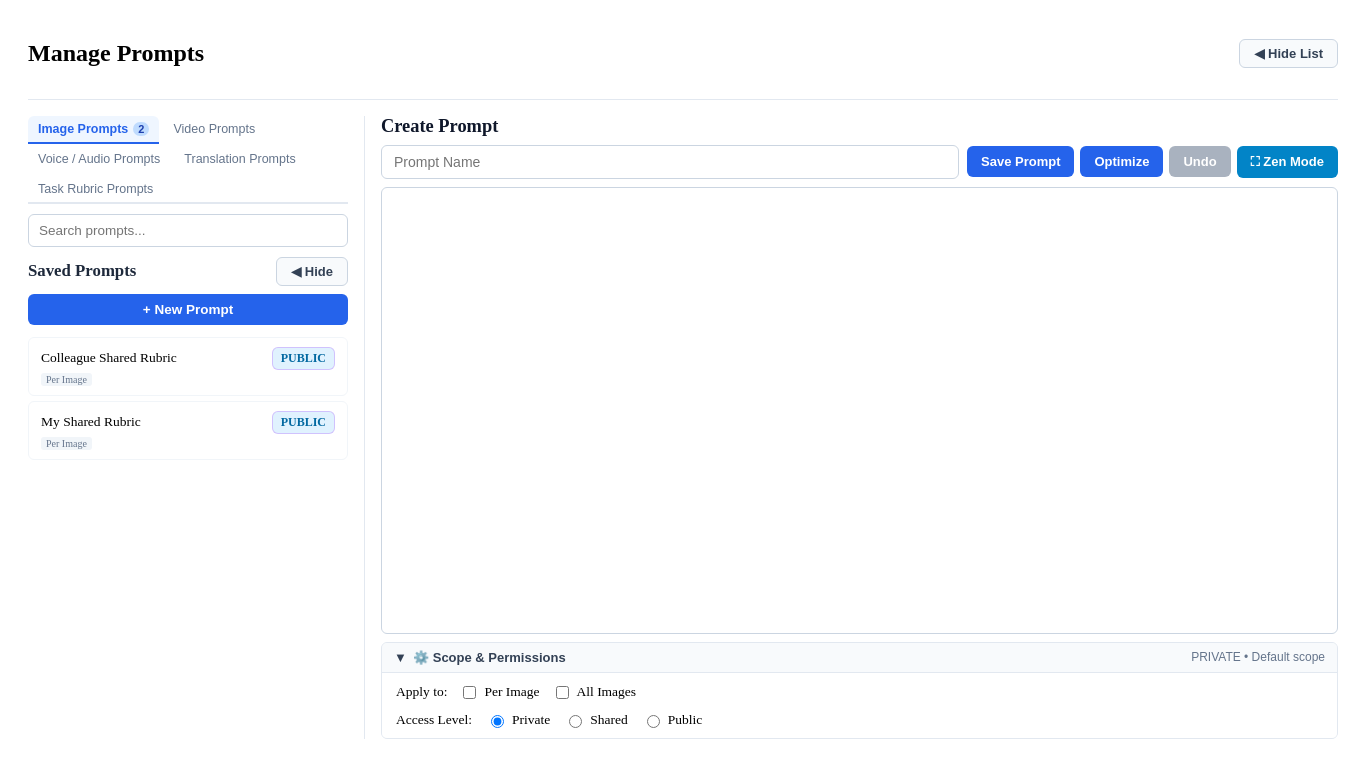
Test: PromptManagement Component › allows instructors to edit their own public prompts while protecting other instructors public prompts
Note: Select my own public prompt: should be editable!
Click the text "My Shared Rubric".
click(91, 422)  # box [41,414,141,430]
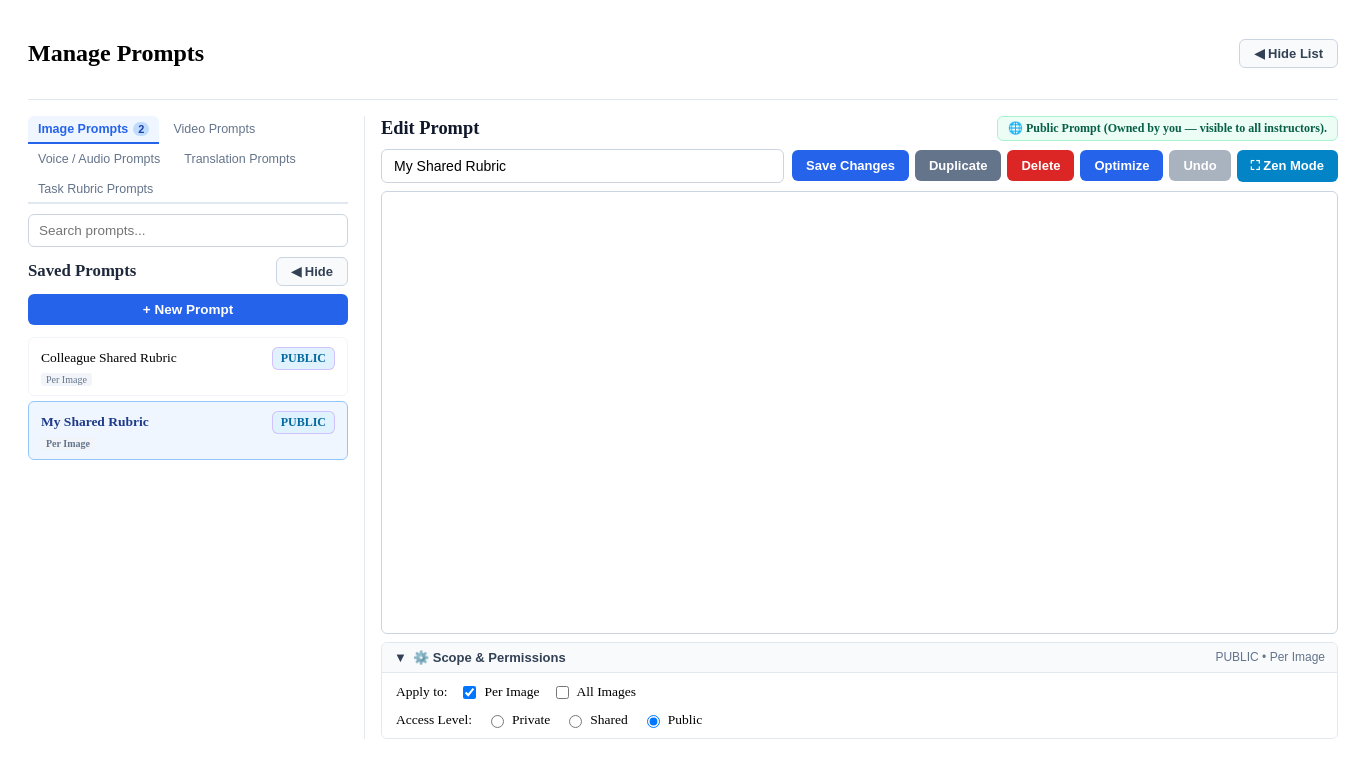
Now the button "Save Changes" is shown, box [792,150,909,181]
Now the button "Delete" is shown, box [1008,150,1074,181]
Now the text "🌐 Public Prompt (Owned by you — visible to all instructors)." is shown, box [997,116,1338,141]
Note: Select colleague's public prompt: should be read-only!
Click the text "Colleague Shared Rubric".
click(109, 358)  # box [41,350,177,366]
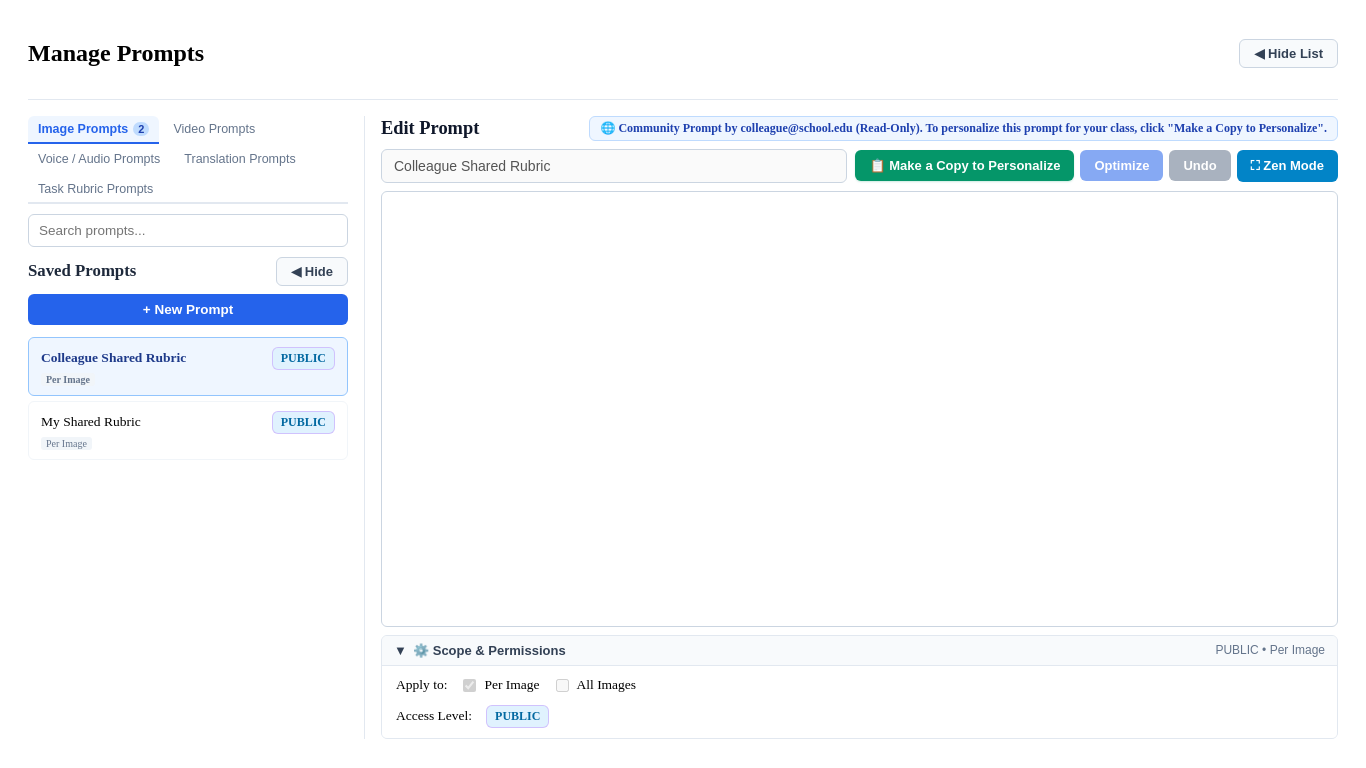
Now the field with placeholder "Prompt Name" is disabled, box [381,149,847,183]
Now the button "Save Changes" is gone
Now the button "Delete" is gone
